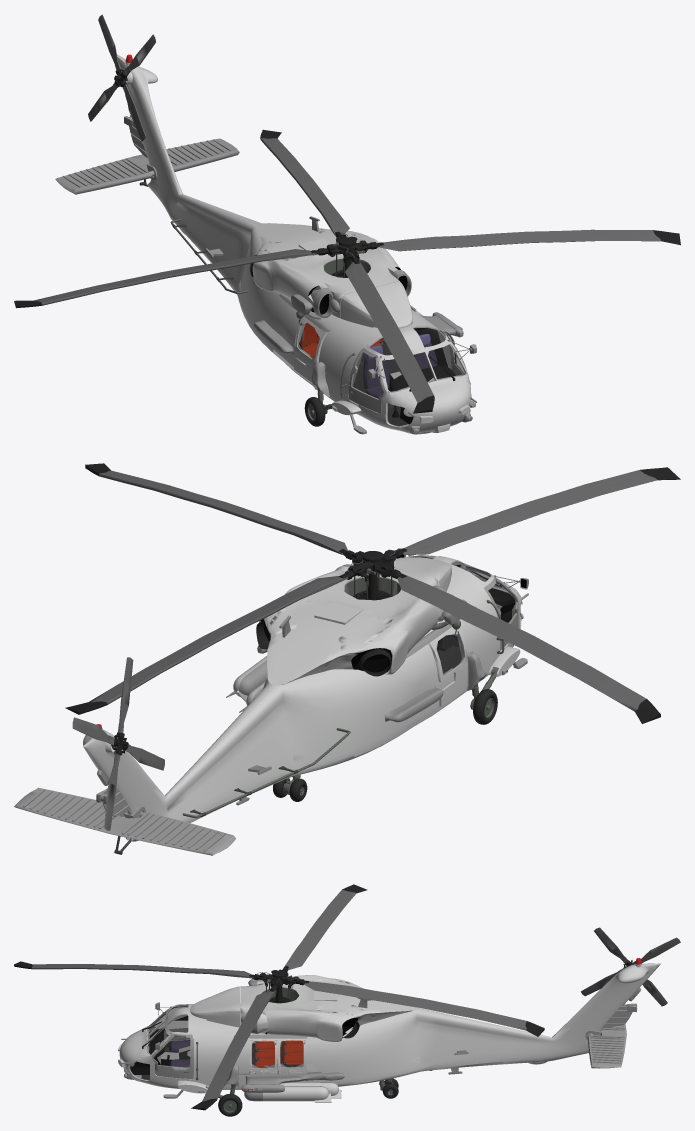
The model's file is Seahawk.obj.
3 views of the same model, one above another, from view 1: azimuth 30°, elevation 25°; view 2: azimuth 150°, elevation 25°; view 3: azimuth 270°, elevation 25° (orthographic). The views are drawn at different scales.
Visible parts, largest first — view 1: Body, TopRotor, TailFin, TailRotor, RightDoor, RightDoor1, RightSeat; view 2: Body, TopRotor, TailFin, TailRotor, RightDoor1, RightDoor, Tank2, RightWheel; view 3: Body, TopRotor, LeftDoor, TailFin, TailRotor, Tank2, LHSideDoorA, LHSideDoorB, RightDoor, LeftWheel, Tank1.
Part boxes in pixels (<box>): Body: <box>117,54,476,434</box>; TopRotor: <box>14,129,680,413</box>; TailFin: <box>55,138,239,194</box>; TailRotor: <box>88,14,155,141</box>; RightDoor: <box>349,348,386,413</box>; RightDoor1: <box>294,316,327,382</box>; RightSeat: <box>363,345,397,408</box>; Body: <box>83,548,528,841</box>; TopRotor: <box>65,463,680,723</box>; TailFin: <box>14,787,235,855</box>; TailRotor: <box>72,657,164,830</box>; RightDoor1: <box>428,627,468,706</box>; RightDoor: <box>484,577,518,650</box>; Tank2: <box>226,656,267,702</box>; RightWheel: <box>473,689,497,724</box>; Body: <box>118,958,661,1098</box>; TopRotor: <box>14,884,544,1110</box>; LeftDoor: <box>151,1033,192,1078</box>; TailFin: <box>587,1023,626,1068</box>; TailRotor: <box>581,927,680,1006</box>; Tank2: <box>244,1086,331,1102</box>; LHSideDoorA: <box>249,1038,277,1075</box>; LHSideDoorB: <box>278,1038,306,1074</box>; RightDoor: <box>151,1006,190,1040</box>; LeftWheel: <box>218,1093,242,1116</box>; Tank1: <box>280,1082,341,1098</box>.
Bounding box in the file's own units: 190 × 67.27 × 239.
